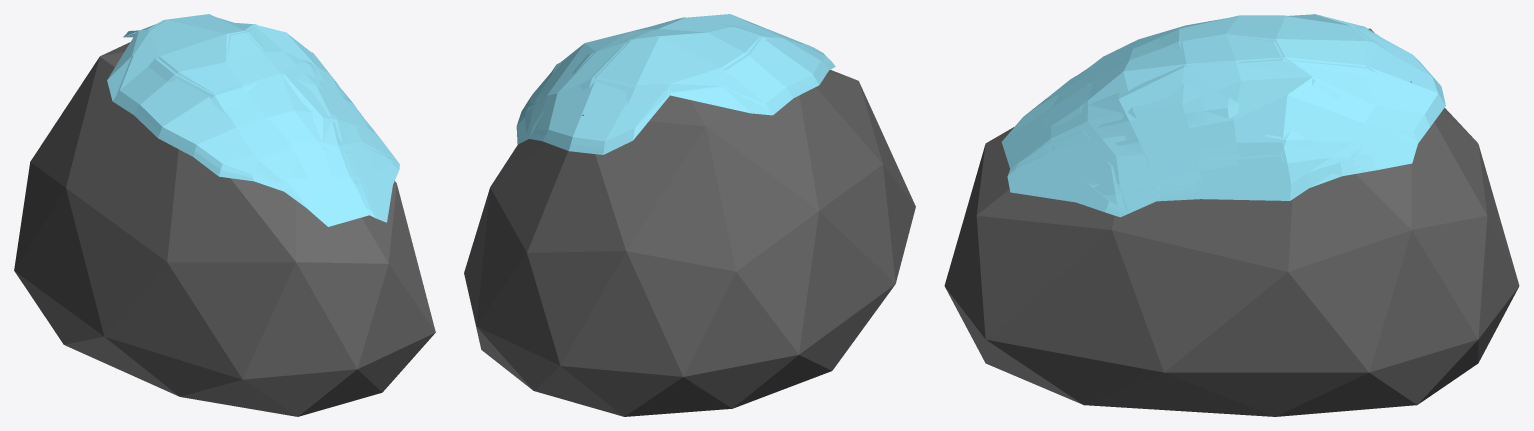
File: Rock_4.fbx
3 views of the same model, side by side, from view 1: azimuth 30°, elevation 25°; view 2: azimuth 150°, elevation 25°; view 3: azimuth 270°, elevation 25° (orthographic). The views are drawn at different scales.
Visible parts, largest first — view 1: Rock_4, Snow_4; view 2: Rock_4, Snow_4; view 3: Rock_4, Snow_4.
Part boxes in pixels (left/top/right/bottom): Rock_4: left=14, top=42, right=435, bottom=416; Snow_4: left=107, top=14, right=399, bottom=226; Rock_4: left=464, top=70, right=915, bottom=416; Snow_4: left=516, top=14, right=835, bottom=154; Rock_4: left=944, top=28, right=1519, bottom=416; Snow_4: left=1001, top=14, right=1445, bottom=217.
Bounding box in the file's own units: 304 × 271 × 426.
